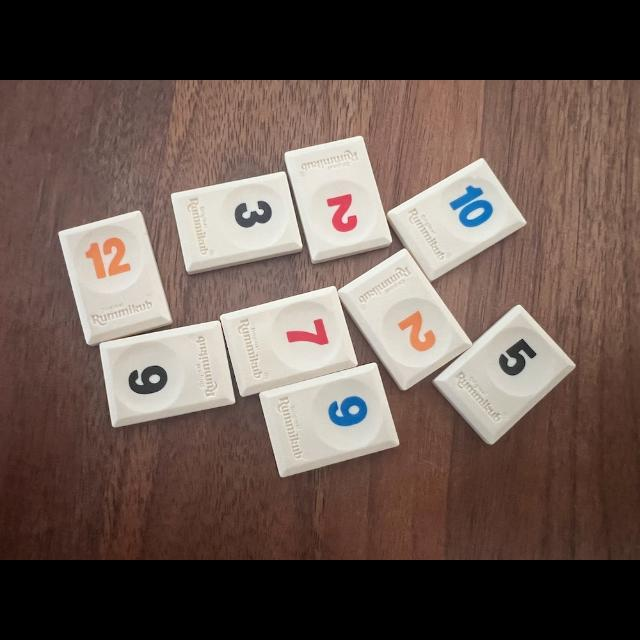black_3: (172, 171, 302, 274)
black_5: (434, 305, 575, 444)
black_6: (100, 321, 235, 428)
blue_10: (388, 159, 526, 281)
blue_9: (260, 362, 399, 476)
orange_12: (59, 211, 172, 345)
orange_2: (339, 249, 471, 390)
red_2: (285, 136, 391, 264)
red_7: (220, 286, 358, 396)
